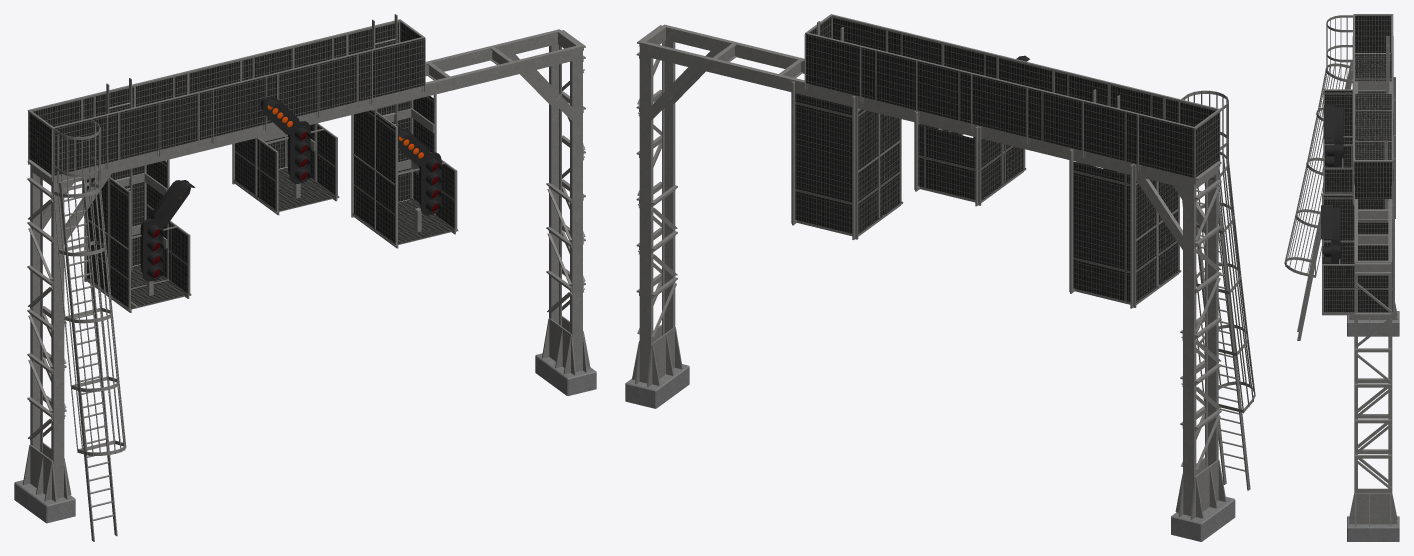
File: gantry-rail_signal.fbx
3 renders of one model, left to right at view 1: azimuth 30°, elevation 25°; view 2: azimuth 150°, elevation 25°; view 3: azimuth 270°, elevation 25°, orthographic. The views are drawn at different scales.
Parts seen in each view (by area): view 1: gantry-rail_signal; view 2: gantry-rail_signal; view 3: gantry-rail_signal.
Boxes of the visible parts, bbox=[...] form: gantry-rail_signal: bbox=[14, 14, 596, 541]; gantry-rail_signal: bbox=[625, 14, 1255, 541]; gantry-rail_signal: bbox=[1284, 14, 1399, 541].
Size of the model in its own units: 13.17 by 9.13 by 2.96.
